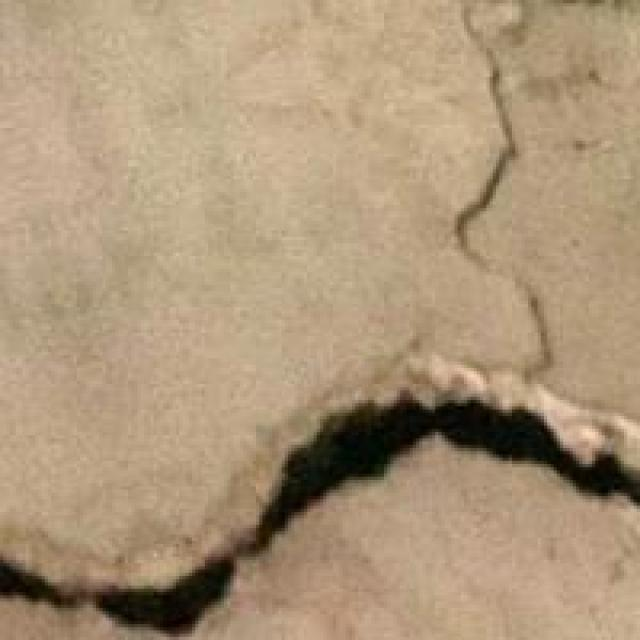crack: (0, 218, 637, 636)
